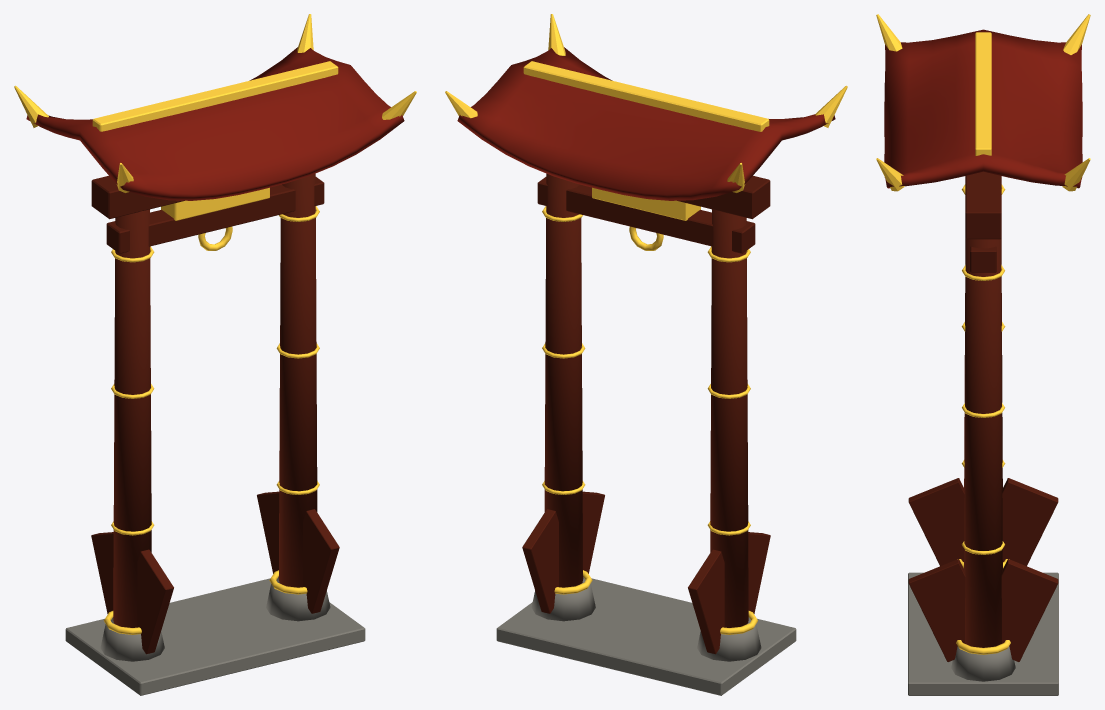
The model's file is gia_dai_hong_chung.glb.
The picture shows the model from 3 angles, left to right: view 1: azimuth 30°, elevation 25°; view 2: azimuth 150°, elevation 25°; view 3: azimuth 270°, elevation 25°; orthographic projection.
Visible parts, largest first — view 1: gia_dai_hong_chung; view 2: gia_dai_hong_chung; view 3: gia_dai_hong_chung.
Part boxes in pixels (x1,y1,x2,y2): gia_dai_hong_chung: (14, 14, 416, 695); gia_dai_hong_chung: (445, 14, 847, 695); gia_dai_hong_chung: (876, 14, 1090, 695).
Bounding box in the file's own units: 5.92 × 10.53 × 3.69.
